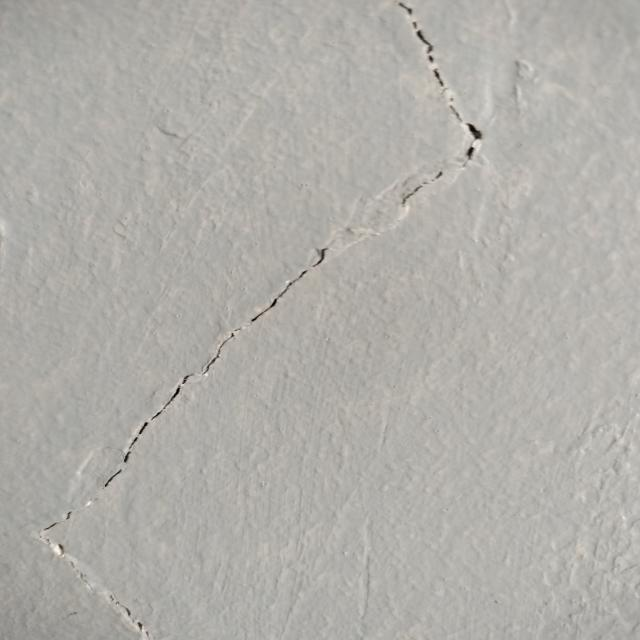Crack: (31, 0, 492, 640)
